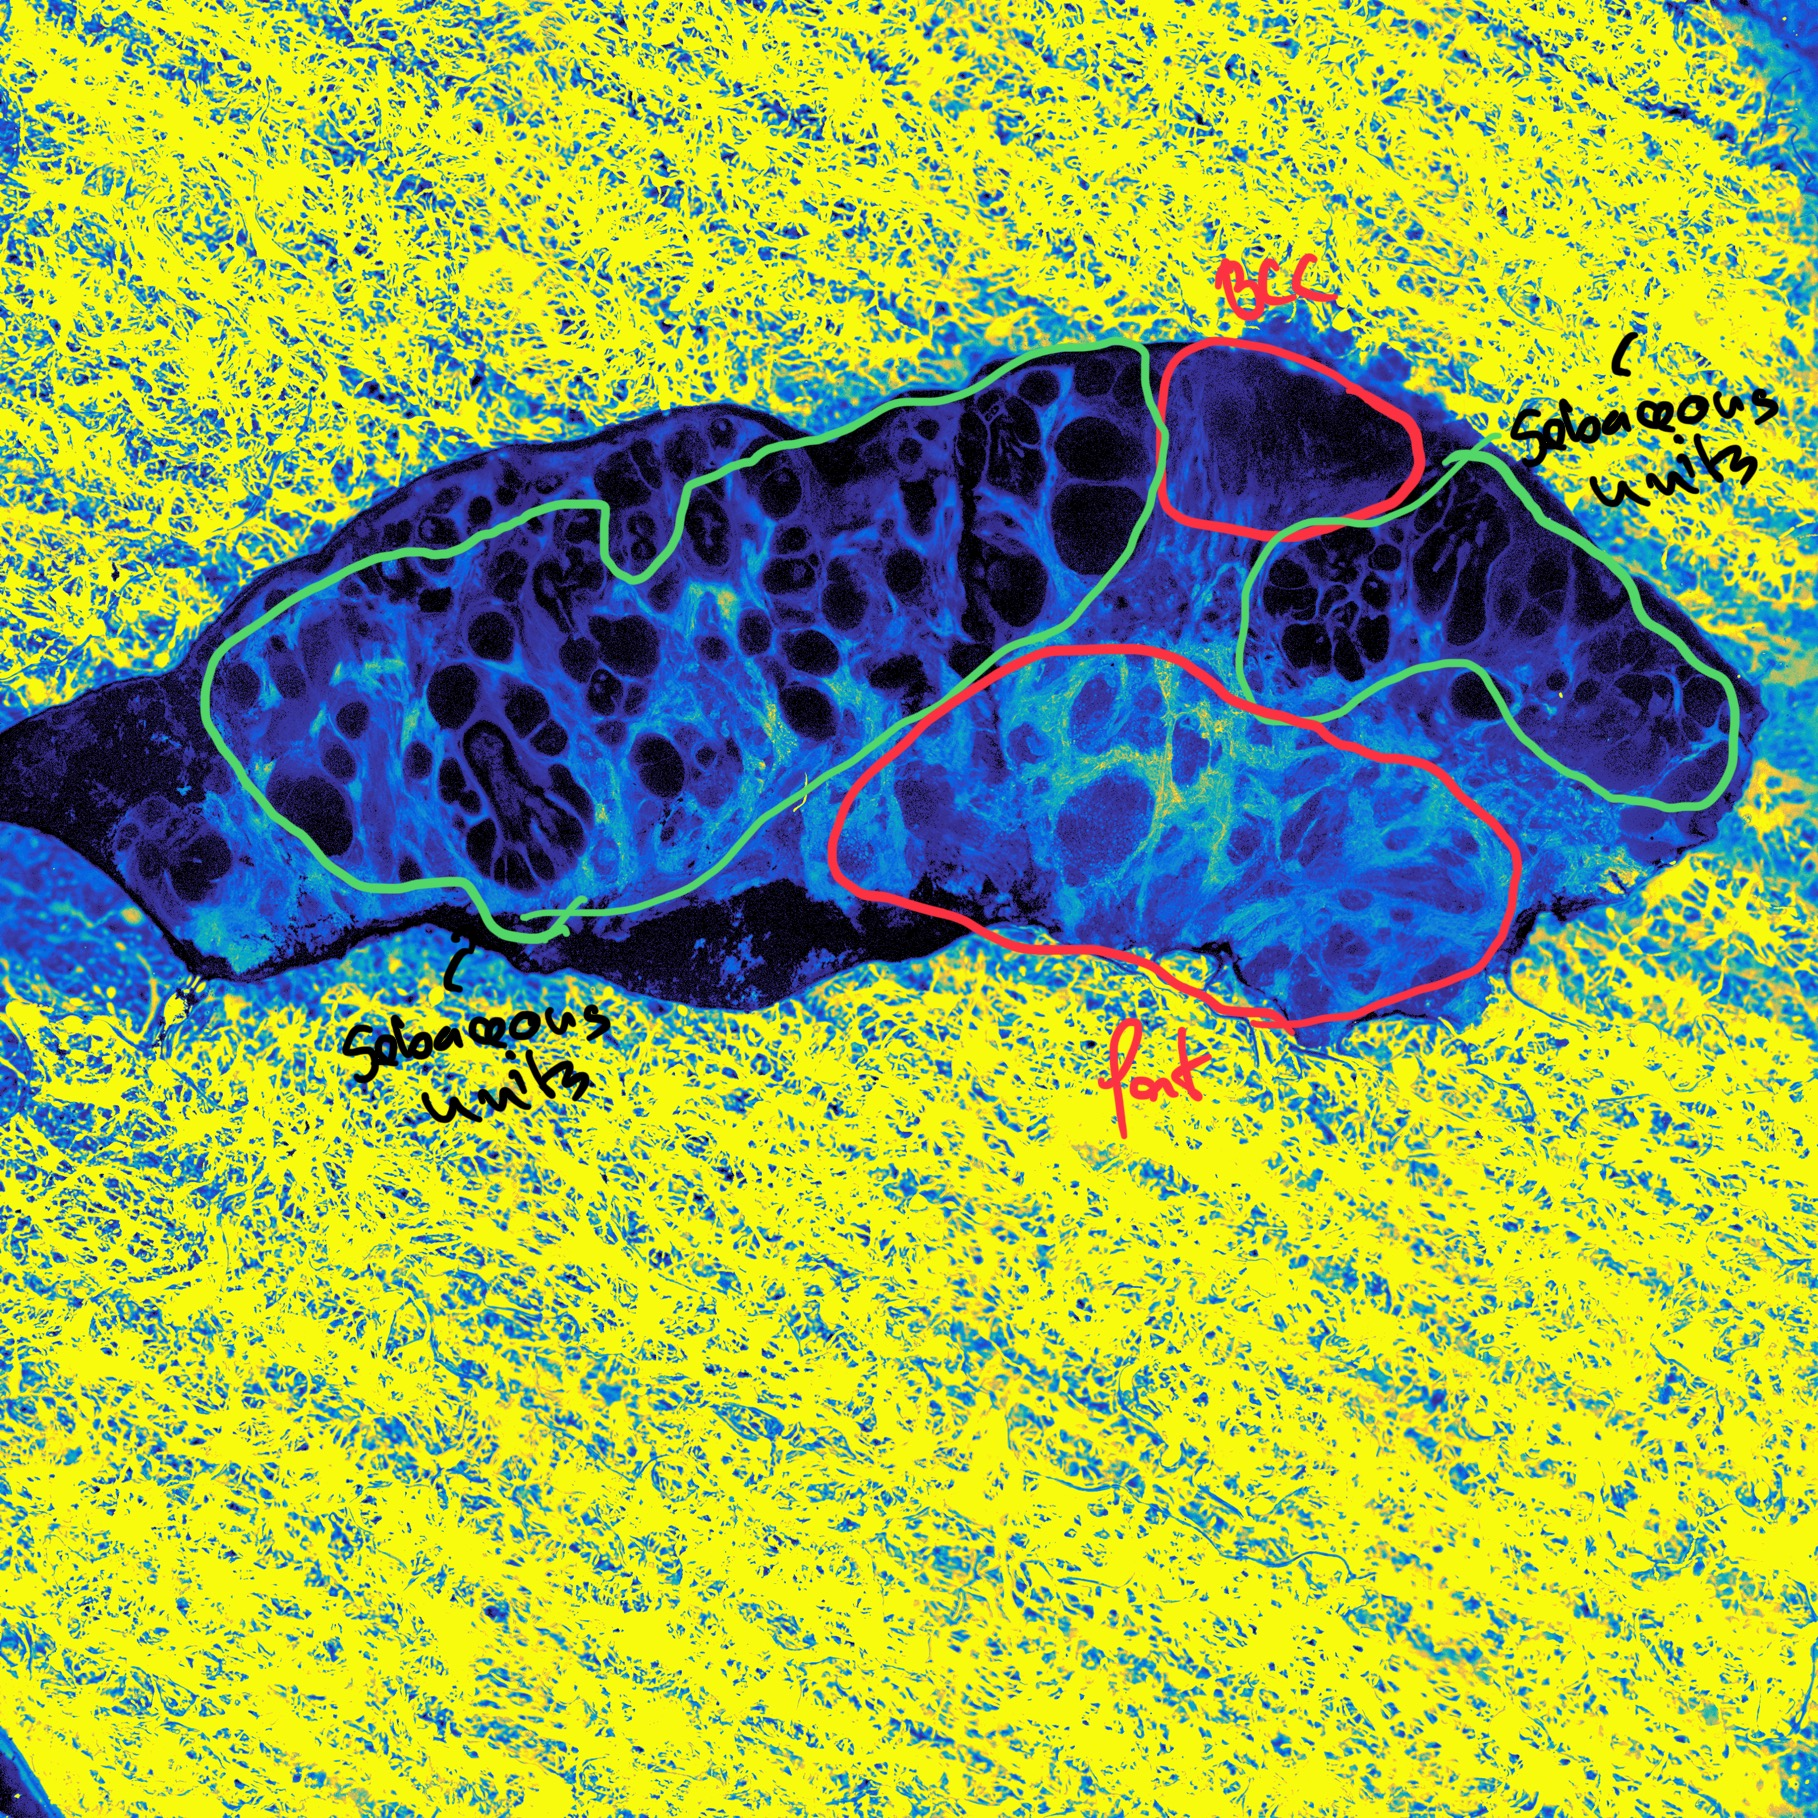BCC: (1289, 408, 1370, 483), (1260, 426, 1325, 496), (1195, 446, 1270, 504), (1234, 363, 1295, 430)
